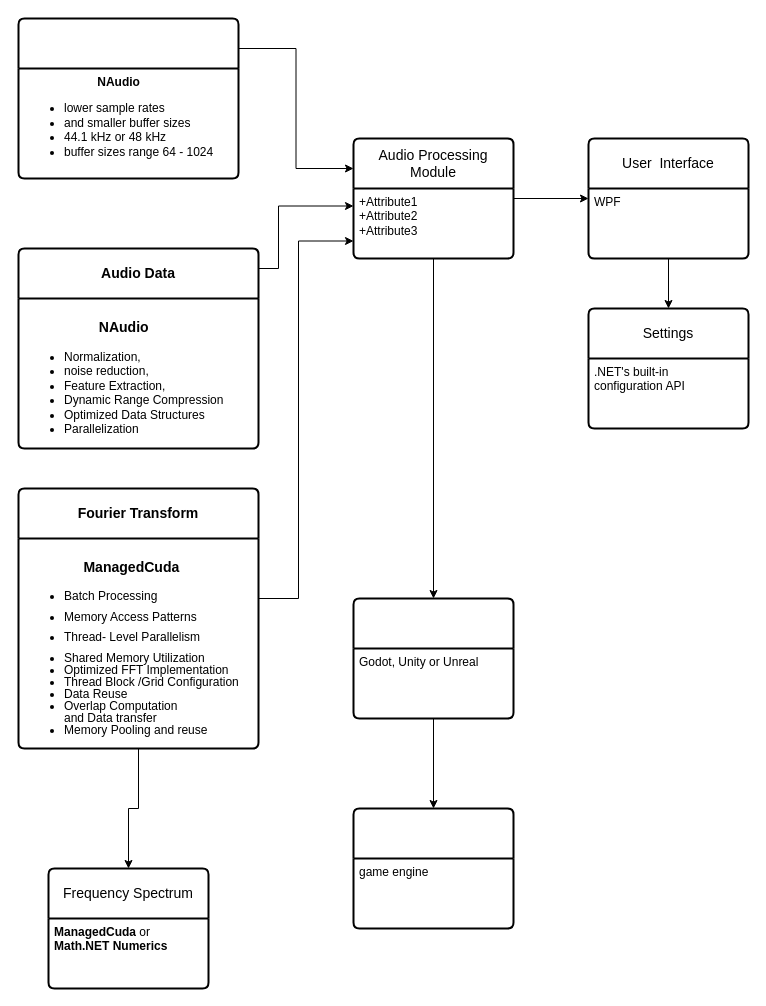
Some shapes in this 766 by 1006 pixel diagram are drawn without their labels. The shapes that lost their labels are listed below. From the top down, each one's box as (x1, y1, x2, y2) in pixels, then its label:
(17, 17, 239, 179): Audio Input Source
(352, 597, 514, 719): Visualization
(352, 807, 514, 929): Display Output
